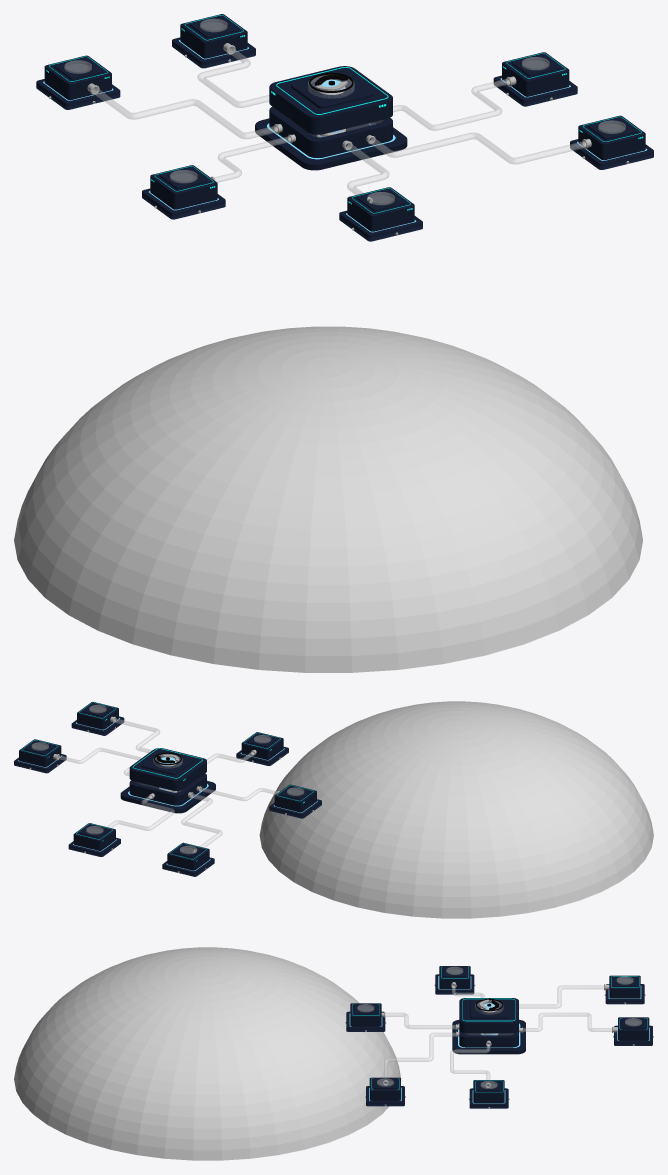
The model's file is Synehcroncity(3).glb.
3 views of the same model, one above another, from view 1: azimuth 30°, elevation 25°; view 2: azimuth 150°, elevation 25°; view 3: azimuth 270°, elevation 25° (orthographic). The views are drawn at different scales.
Visible parts, largest first — view 1: Sphere, Synechron_platform, Sub_platform_CTO_Office, Sub_platform_Ai, Sub_platform_Data, Sub_platform_Cloud_Dev_ops, Sub_platform_payments, Sub_platform_Digital, Plane.006, Plane.003, Cube.005, Plane.004 (+1 smaller); view 2: Sphere, Synechron_platform, Sub_platform_CTO_Office, Sub_platform_payments, Sub_platform_Digital, Sub_platform_Ai, Sub_platform_Cloud_Dev_ops, Sub_platform_Data, Cube.005, Plane.003, Plane.002, Plane.004 (+1 smaller); view 3: Sphere, Synechron_platform, Sub_platform_payments, Sub_platform_Data, Sub_platform_Cloud_Dev_ops, Sub_platform_Ai, Sub_platform_CTO_Office, Sub_platform_Digital, Cube.005, Plane.006, Plane.002, Plane.003 (+2 smaller).
Boxes of the visible parts, <box> form: Sphere: <box>14,326,642,672</box>; Synechron_platform: <box>255,66,407,170</box>; Sub_platform_CTO_Office: <box>142,165,225,219</box>; Sub_platform_Ai: <box>339,187,422,241</box>; Sub_platform_Data: <box>570,115,653,169</box>; Sub_platform_Cloud_Dev_ops: <box>493,52,577,106</box>; Sub_platform_payments: <box>36,55,120,109</box>; Sub_platform_Digital: <box>172,14,255,68</box>; Plane.006: <box>369,132,585,164</box>; Plane.003: <box>92,87,277,138</box>; Cube.005: <box>291,71,373,108</box>; Plane.004: <box>393,79,509,130</box>; Sphere: <box>259,701,653,918</box>; Synechron_platform: <box>120,748,215,813</box>; Sub_platform_CTO_Office: <box>269,784,321,818</box>; Sub_platform_payments: <box>162,842,214,876</box>; Sub_platform_Digital: <box>68,823,120,856</box>; Sub_platform_Ai: <box>236,732,288,765</box>; Sub_platform_Cloud_Dev_ops: <box>14,739,66,773</box>; Sub_platform_Data: <box>71,702,124,735</box>; Cube.005: <box>141,751,193,774</box>; Plane.003: <box>181,794,222,850</box>; Plane.002: <box>107,795,174,830</box>; Plane.004: <box>57,748,141,775</box>; Sphere: <box>14,947,401,1160</box>; Synechron_platform: <box>452,998,525,1054</box>; Sub_platform_payments: <box>605,975,644,1004</box>; Sub_platform_Data: <box>366,1077,404,1106</box>; Sub_platform_Cloud_Dev_ops: <box>469,1080,508,1108</box>; Sub_platform_Ai: <box>346,1003,385,1031</box>; Sub_platform_CTO_Office: <box>435,966,474,994</box>; Sub_platform_Digital: <box>614,1017,652,1045</box>; Cube.005: <box>470,1000,508,1018</box>; Plane.006: <box>384,1033,458,1077</box>; Plane.002: <box>523,1013,611,1031</box>; Plane.003: <box>519,985,603,1008</box>.
Bounding box in the file's own units: 58.6 × 17.83 × 71.67.
